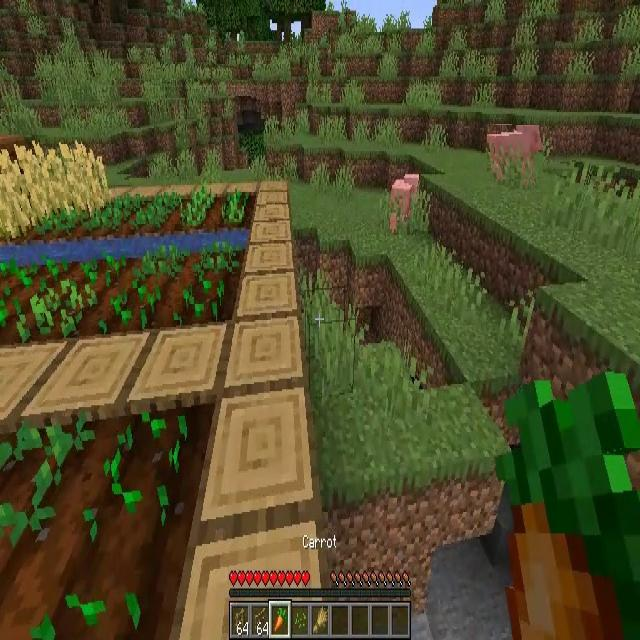pig: (487, 126, 543, 180), (390, 174, 421, 233)
